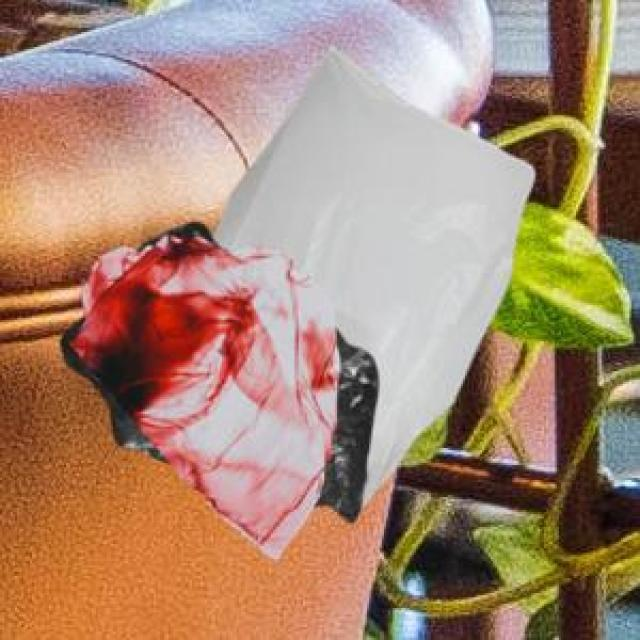waste: (62, 54, 532, 557)
